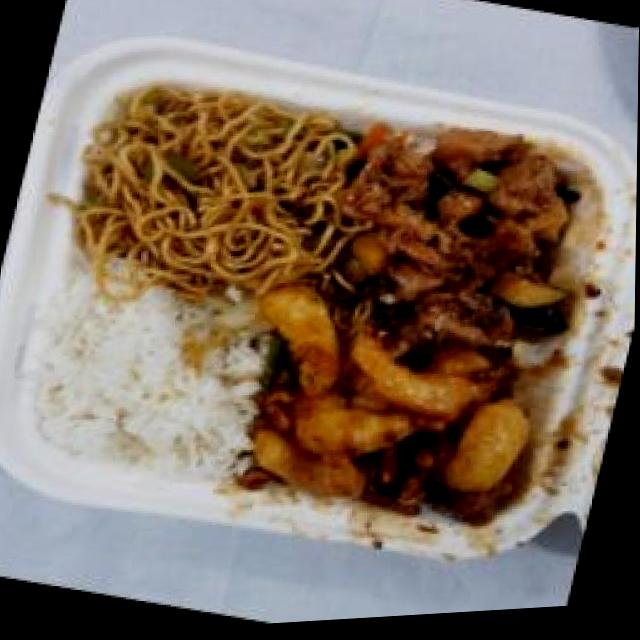Chow Mein: (56, 55, 367, 327)
Honey Walnut Shrimp: (225, 281, 566, 567)
Kung Pao Chicken: (305, 101, 618, 399)
White Steamed Rice: (12, 267, 280, 502)
